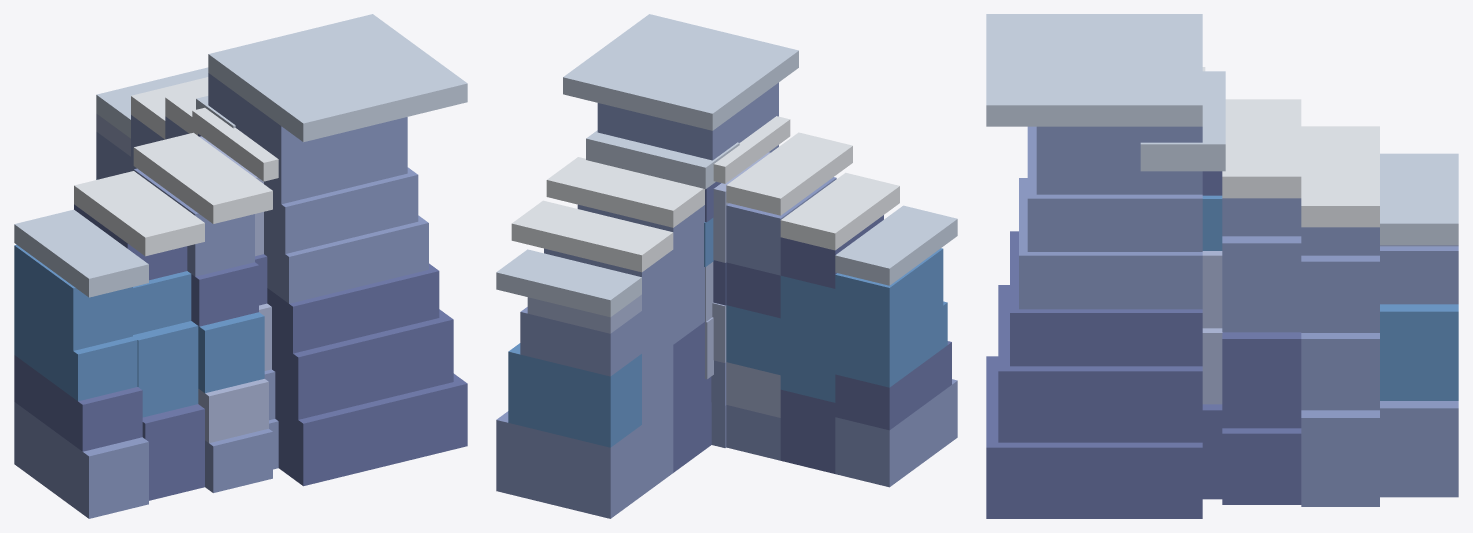
Rendered from IceCornerRock.glb.
3 renders of one model, left to right at view 1: azimuth 30°, elevation 25°; view 2: azimuth 150°, elevation 25°; view 3: azimuth 270°, elevation 25°, orthographic. The views are drawn at different scales.
Visible parts, largest first — view 1: IceCornerRock; view 2: IceCornerRock; view 3: IceCornerRock.
Boxes of the visible parts, x1,y1,x2,y2 form: IceCornerRock: (14, 14, 467, 518); IceCornerRock: (496, 14, 957, 518); IceCornerRock: (986, 14, 1458, 518).
Bounding box in the file's own units: 12 × 11.6 × 12.
Materials: 1 (1 with a texture image).
